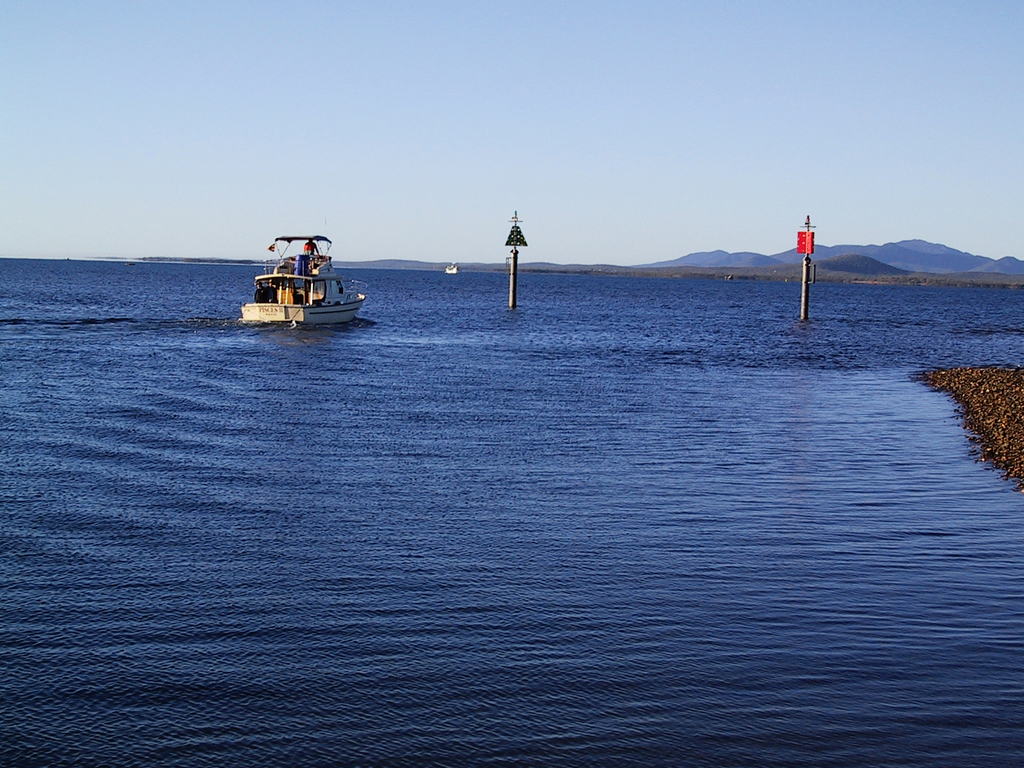boat: (222, 222, 381, 344)
